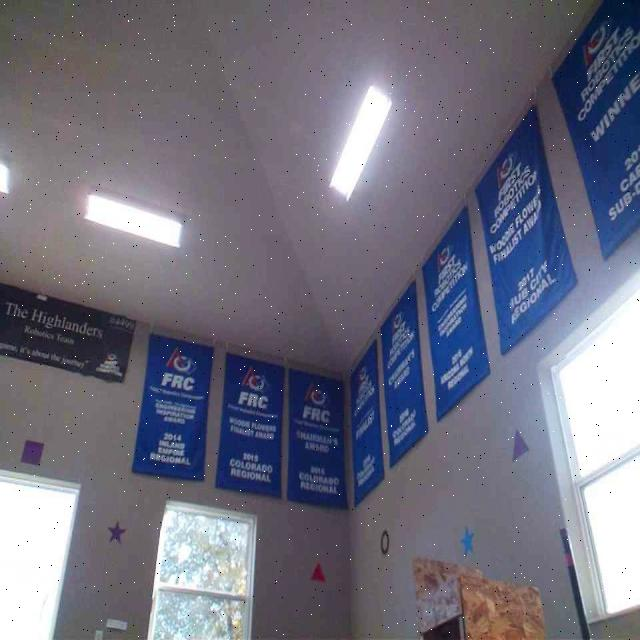ring_black: (380, 526, 388, 554)
square_purple: (20, 438, 45, 464)
star_blue: (459, 524, 473, 558)
star_purple: (107, 519, 125, 545)
triangle_purple: (511, 426, 528, 461)
triangle_red: (309, 563, 326, 583)
